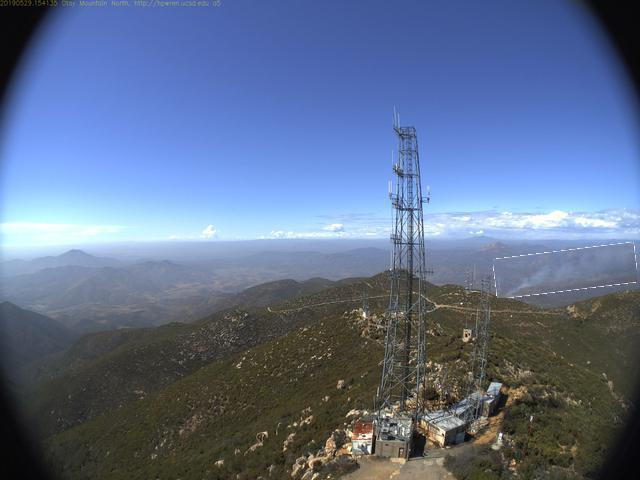smoke: (495, 248, 639, 296)
